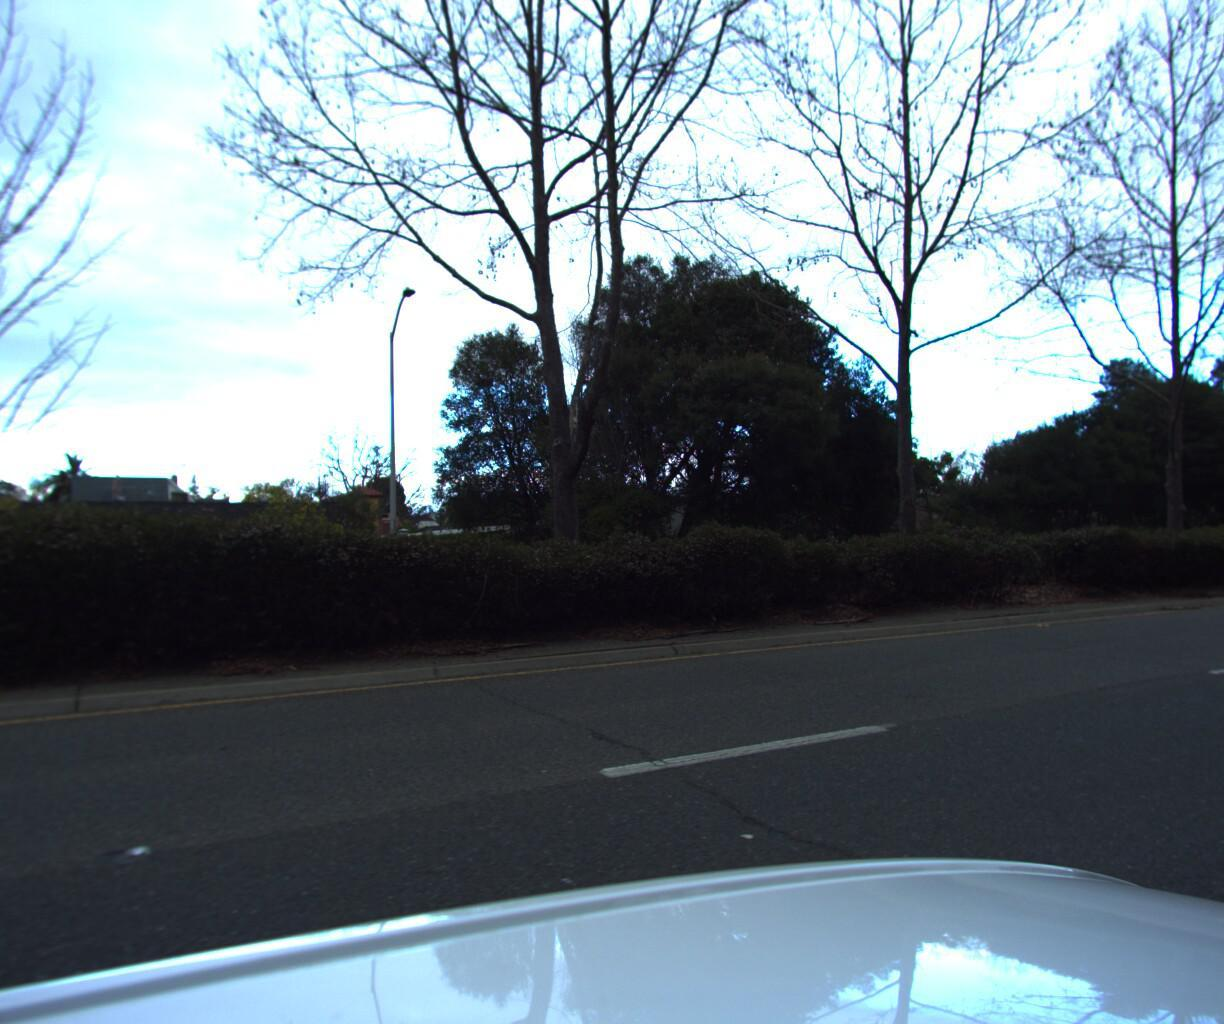car: (1194, 503, 1224, 553)
